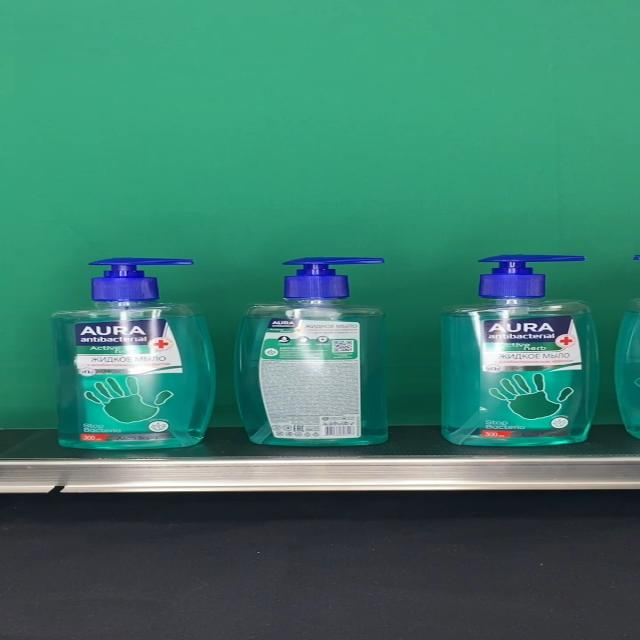Bottle: (51, 258, 216, 450), (439, 254, 599, 446), (235, 257, 389, 447)
Cap: (476, 254, 586, 297), (89, 258, 192, 301), (282, 256, 385, 298)
